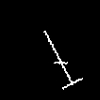double_crochet: (44, 31, 82, 89)
